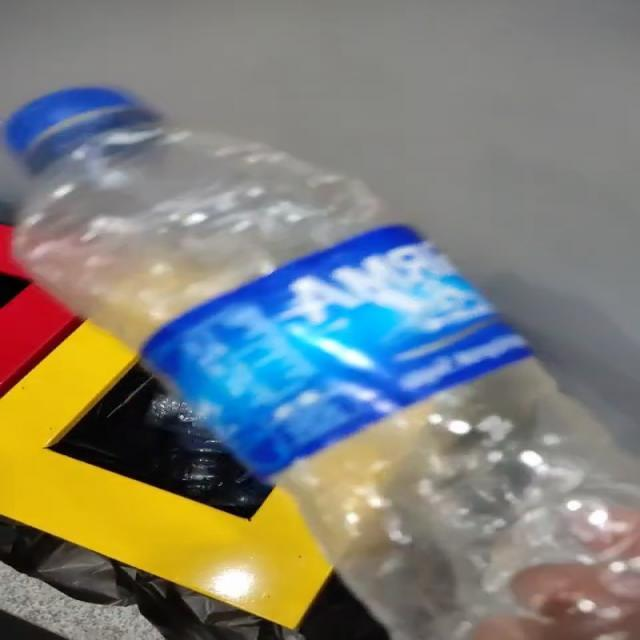Plastic: (5, 87, 637, 640)
